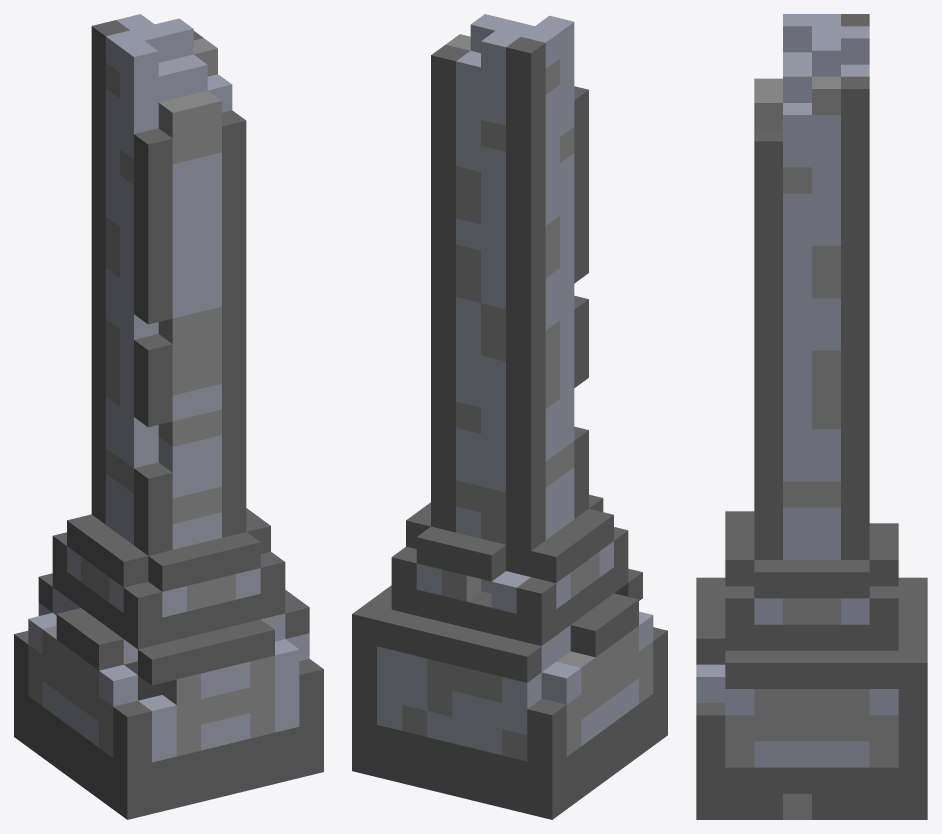
File: Medieval Assets-164-Dungeon - Pillar - Variant2.obj
3 renders of one model, left to right at view 1: azimuth 30°, elevation 25°; view 2: azimuth 150°, elevation 25°; view 3: azimuth 270°, elevation 25°, orthographic.
Visible parts, largest first — view 1: Dungeon - Pillar - Variant2; view 2: Dungeon - Pillar - Variant2; view 3: Dungeon - Pillar - Variant2.
Part boxes in pixels (left/top/right/bottom): Dungeon - Pillar - Variant2: left=14, top=14, right=323, bottom=819; Dungeon - Pillar - Variant2: left=352, top=14, right=667, bottom=819; Dungeon - Pillar - Variant2: left=696, top=14, right=927, bottom=819.
Size of the model in its own units: 0.8 by 2.8 by 0.8.
1 material, 1 textured.
